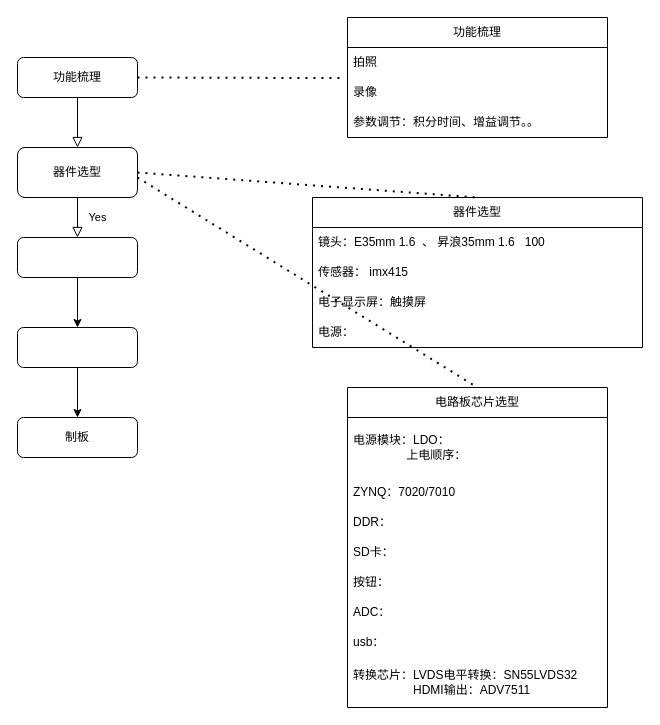
This 660x725 diagram has some shape labels left out. Here are the shapes that lost their labels. From the top down, the centre of each, then its label:
[77,257]: 原理图设计
[77,347]: PCB绘制
